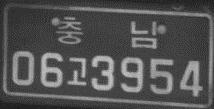0: (11, 50, 35, 86)
3: (89, 54, 115, 91)
4: (179, 60, 203, 97)
5: (149, 57, 174, 95)
6: (40, 51, 63, 88)
9: (120, 56, 143, 93)
고: (66, 56, 87, 87)
충남_D: (56, 15, 159, 49)
